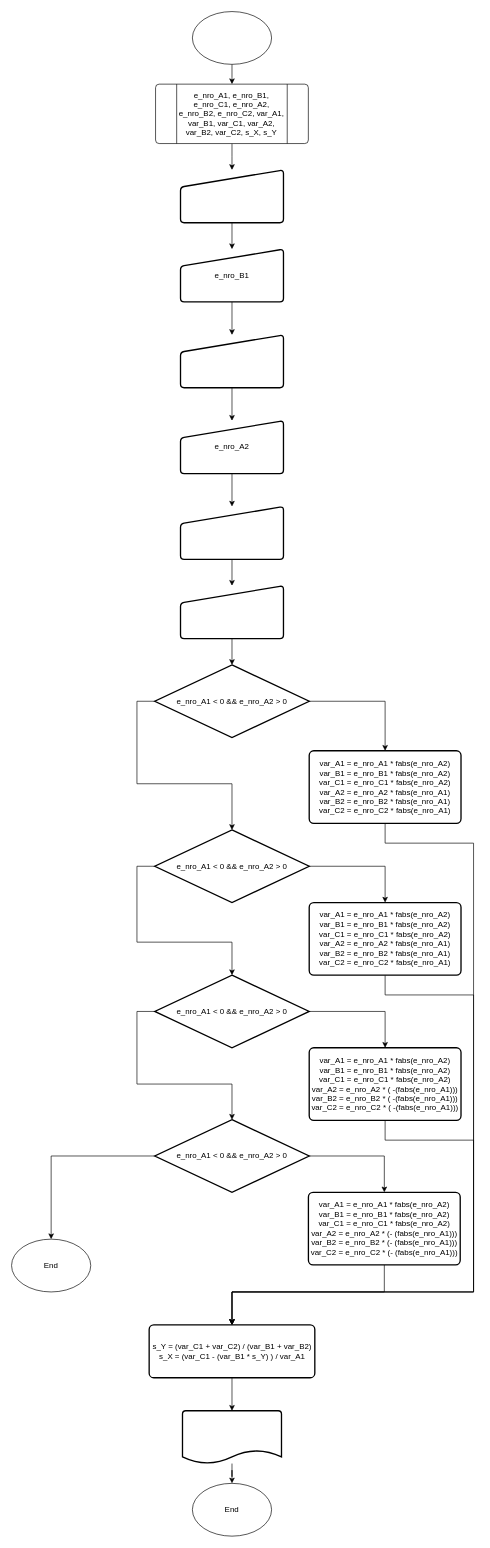
Image size: 490x1548. Some labels were removed from this diagram. The shapes that lost their labels are listed below. From the top down, each one's centre as x and y in pixels, then its label:
At point 232,37: "Start".
At point 232,196: "e_nro_A1".
At point 232,361: "e_nro_C1".
At point 232,533: "e_nro_B2".
At point 232,612: "e_nro_C2".
At point 232,1437: "s_Y s_X".
